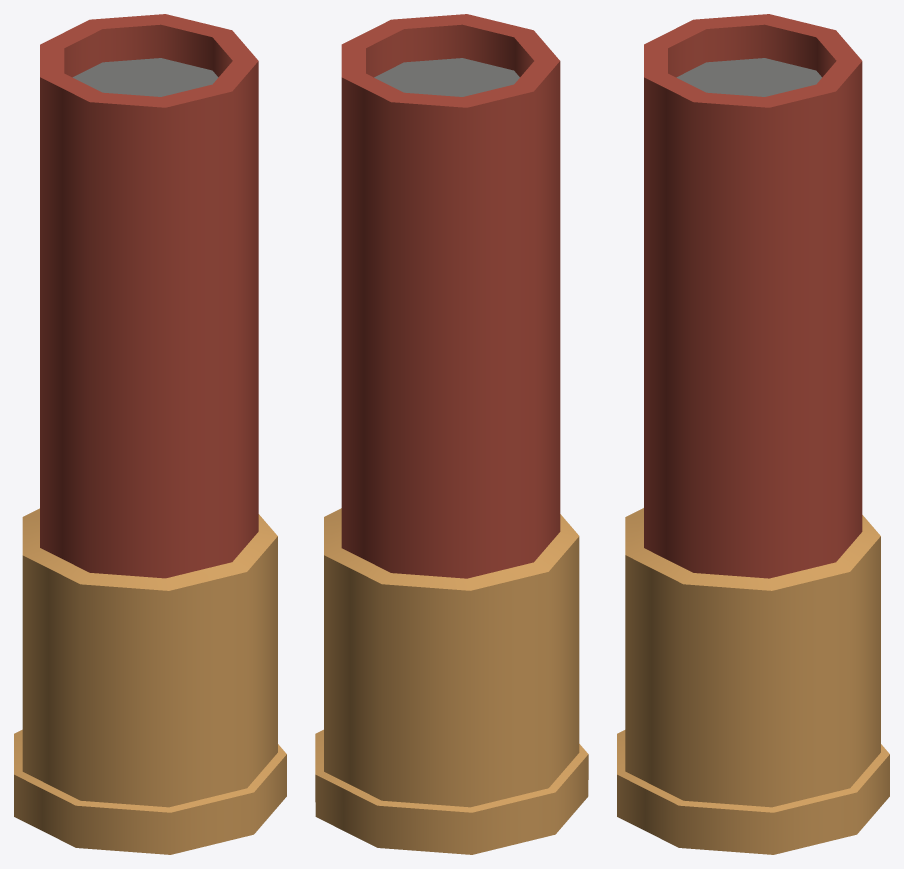
The model's file is SM_Bullet_09.fbx.
The picture shows the model from 3 angles, left to right: view 1: azimuth 30°, elevation 25°; view 2: azimuth 150°, elevation 25°; view 3: azimuth 270°, elevation 25°; orthographic projection.
Parts seen in each view (by area): view 1: SM_Bullet_09; view 2: SM_Bullet_09; view 3: SM_Bullet_09.
Part boxes in pixels (x1,y1,x2,y2): SM_Bullet_09: (14, 14, 286, 854); SM_Bullet_09: (315, 14, 588, 854); SM_Bullet_09: (617, 14, 889, 854).
Size of the model in its own units: 6.2 by 18.17 by 6.11.
Materials: 1 (1 with a texture image).
